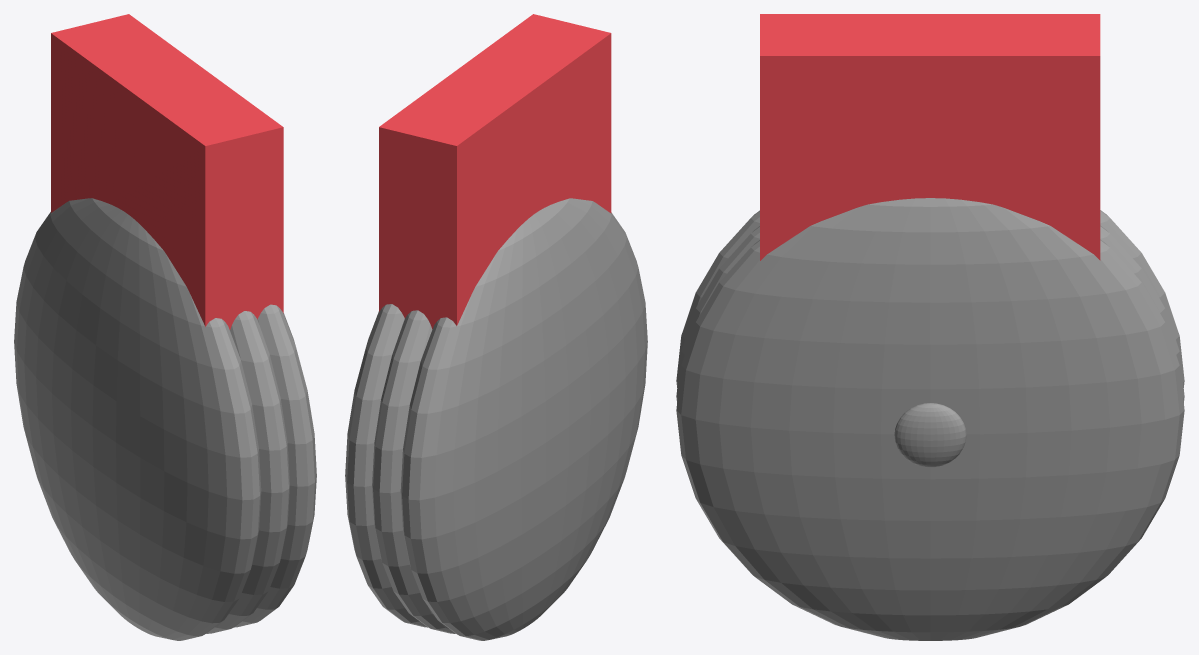
Rendered from FireAlarm.fbx.
The picture shows the model from 3 angles, left to right: view 1: azimuth 30°, elevation 25°; view 2: azimuth 150°, elevation 25°; view 3: azimuth 270°, elevation 25°; orthographic projection. The views are drawn at different scales.
Parts seen in each view (by area): view 1: Esfera.002; view 2: Esfera.002; view 3: Esfera.002.
Part boxes in pixels (x1,y1,x2,y2): Esfera.002: (14, 14, 316, 640); Esfera.002: (345, 14, 647, 640); Esfera.002: (676, 14, 1184, 640).
Bounding box in the file's own units: 6.54 × 21.38 × 16.64.
